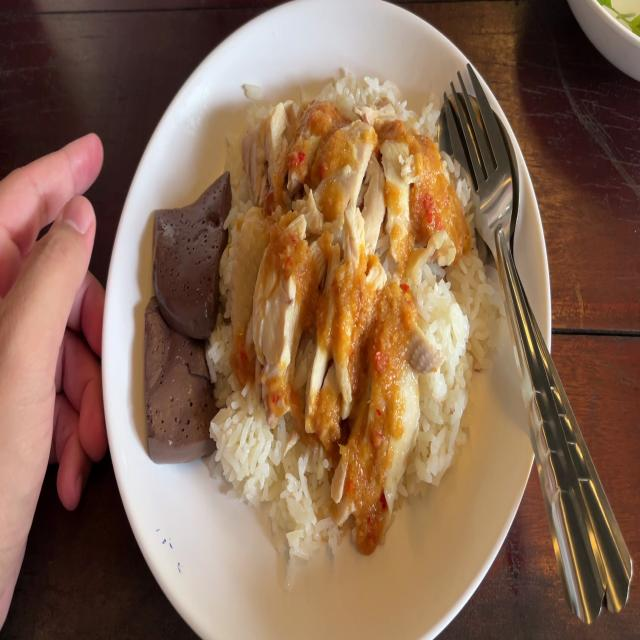boiled_chicken: (266, 106, 421, 492)
boiled_chicken_blood_jelly: (150, 180, 230, 340), (137, 305, 216, 459)
chicken_rice: (142, 61, 503, 584)
